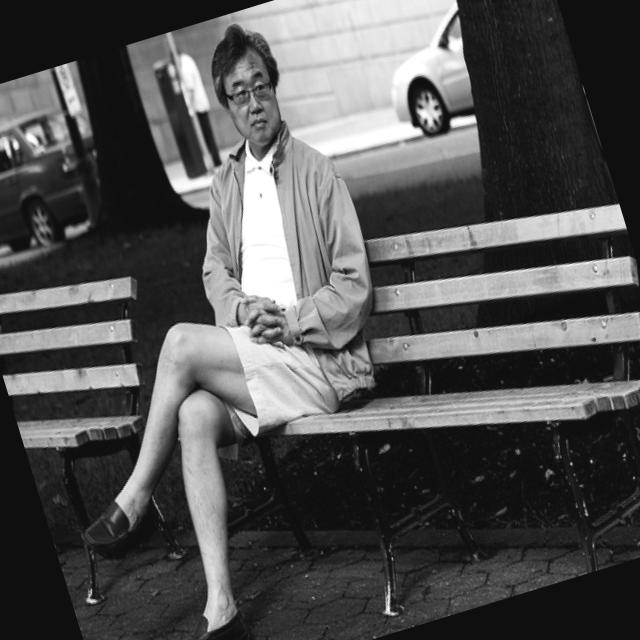Vehicle: (366, 0, 587, 155), (0, 93, 122, 270)
